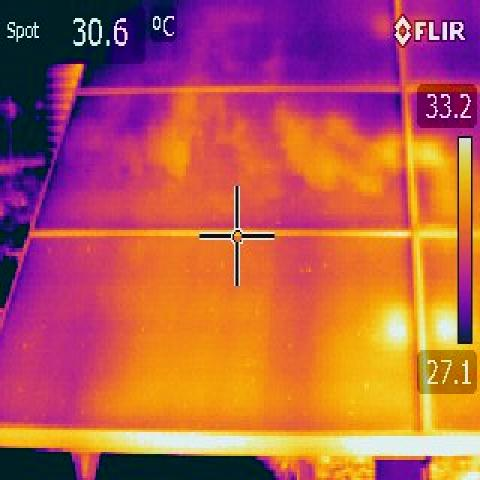fault: (431, 294, 458, 348), (386, 298, 412, 354), (414, 132, 444, 172)
